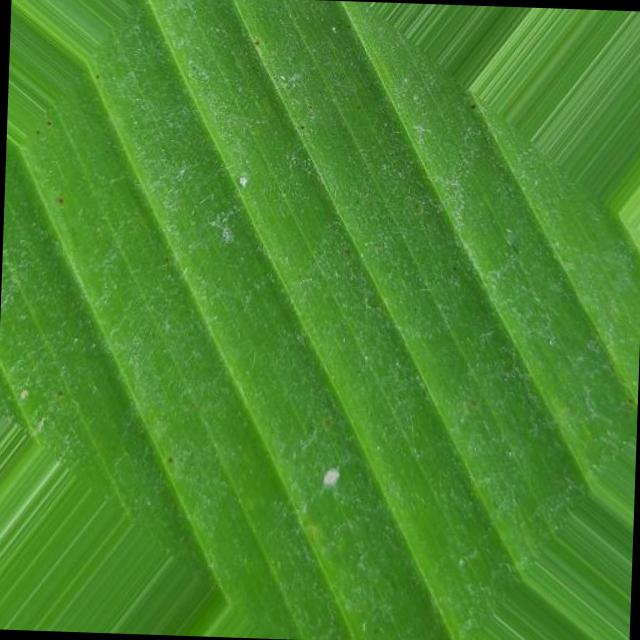Banana_Healthy: (0, 0, 626, 558)
